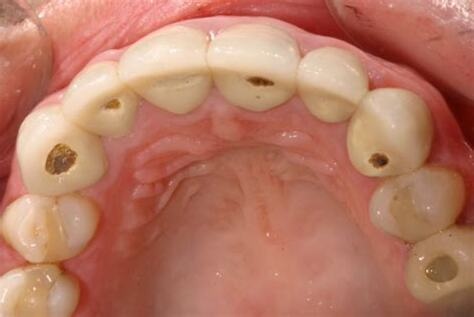UL1BC_decay: (369, 162, 474, 242)
UL2BC_decay: (404, 228, 474, 307)
ULCI_decay: (210, 24, 298, 114)
ULC_decay: (340, 89, 436, 180)
ULLI_healthy: (297, 47, 369, 117)
UR1BC_decay: (3, 195, 101, 252)
UR2BC_decay: (1, 263, 90, 317)
URCI_healthy: (125, 24, 211, 117)
URC_decay: (18, 108, 107, 189)
URLI_decay: (66, 63, 138, 138)
